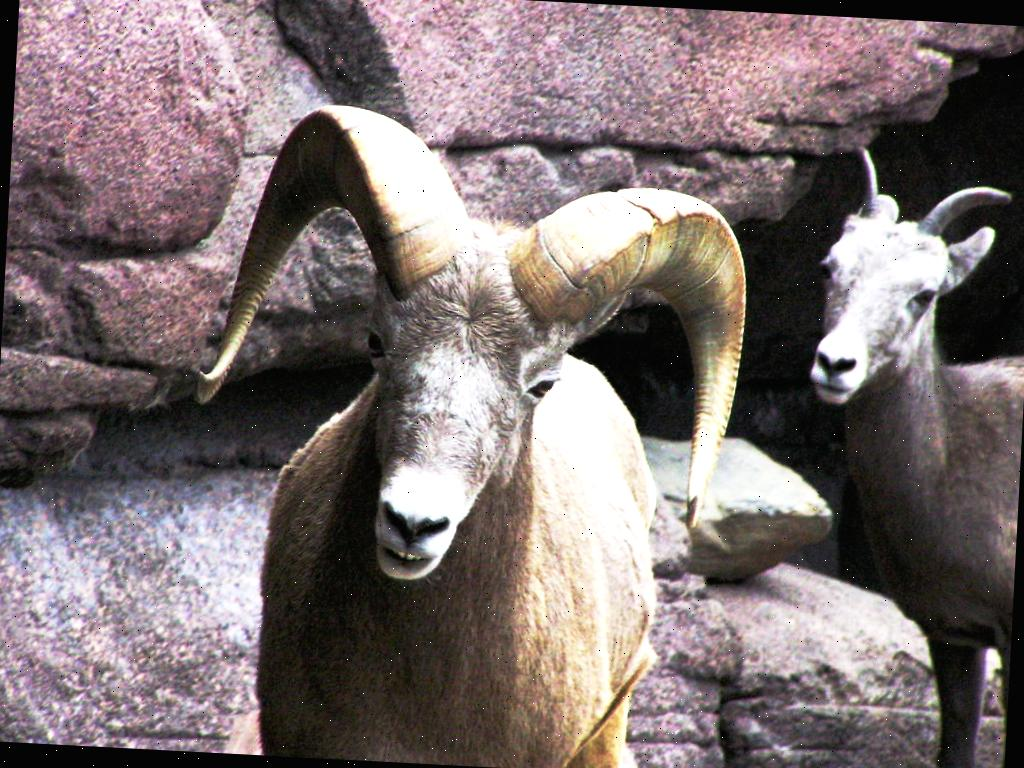Sheep: (179, 99, 754, 768), (789, 141, 1024, 768)
